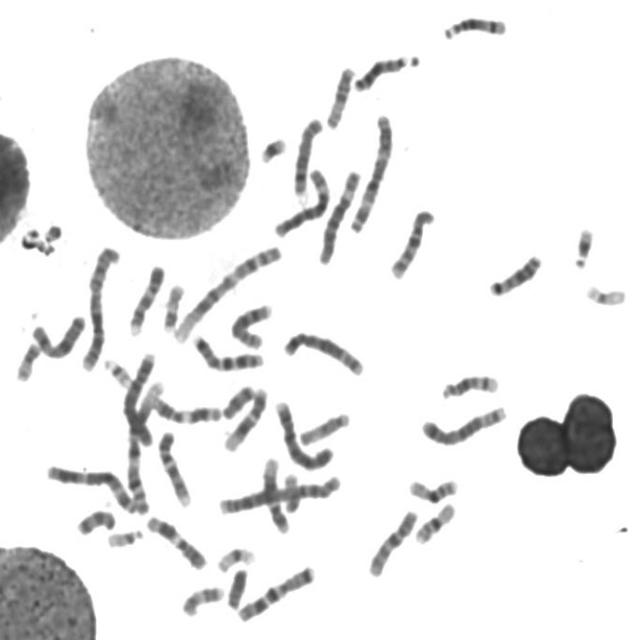A1: (170, 238, 285, 345), (121, 374, 167, 516)
A2: (215, 469, 345, 516), (77, 239, 122, 374)
A3: (345, 107, 397, 234), (42, 457, 144, 516)
B4: (271, 395, 336, 471), (120, 346, 160, 446)
B5: (280, 325, 367, 377), (418, 399, 510, 447)
C10: (364, 504, 421, 580), (387, 202, 438, 281)
C11: (143, 510, 210, 572), (146, 390, 225, 426)
C12: (219, 381, 270, 453), (259, 452, 292, 535)
C6: (314, 164, 364, 266), (270, 162, 334, 238)
C7: (233, 559, 318, 623), (188, 328, 268, 373)
C8: (289, 111, 326, 198), (226, 298, 276, 350)
C9: (153, 424, 194, 507), (125, 258, 168, 337)
D13: (349, 47, 423, 93), (485, 248, 545, 298)
D14: (440, 9, 510, 41), (438, 367, 502, 401)
D15: (322, 60, 358, 130), (296, 405, 352, 447)
E16: (411, 496, 459, 546), (404, 471, 462, 504)
E17: (178, 580, 227, 618), (160, 279, 188, 333)
E18: (219, 379, 258, 421), (73, 503, 118, 537)
F19: (582, 277, 630, 308), (212, 541, 258, 573)
F20: (11, 336, 44, 383), (280, 468, 302, 514)
G21: (569, 220, 597, 270), (256, 130, 290, 165)
G22: (100, 352, 135, 389), (104, 522, 146, 549)
X: (28, 308, 89, 360)
Y: (223, 562, 250, 610)
